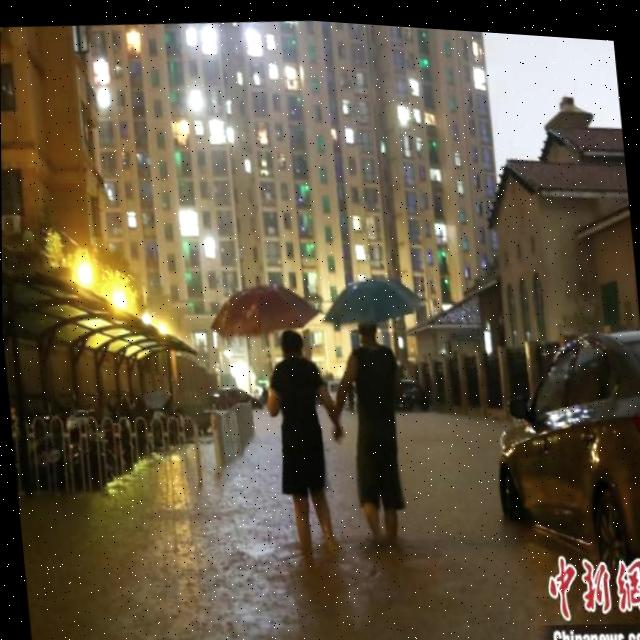civilian: (256, 311, 357, 568), (342, 315, 424, 558)
